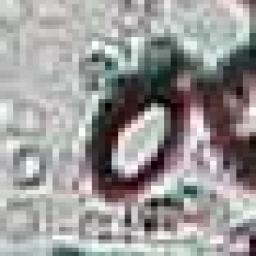crystals: (90, 87, 191, 198)
